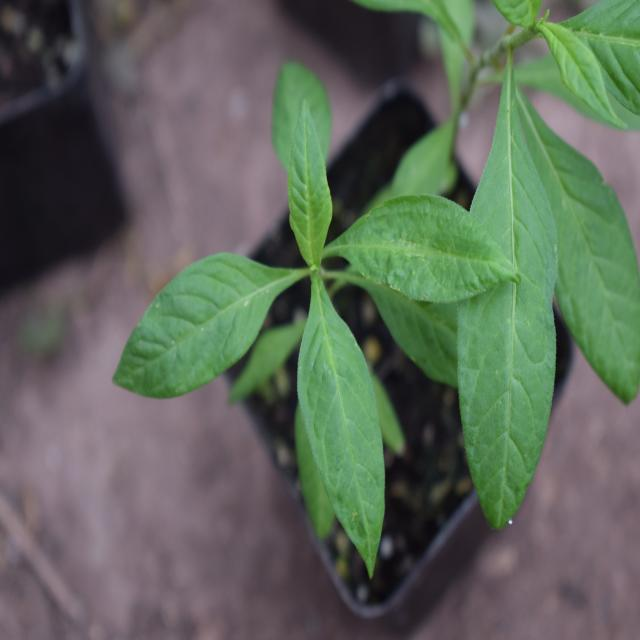white_smart_weed: (141, 106, 543, 584)
